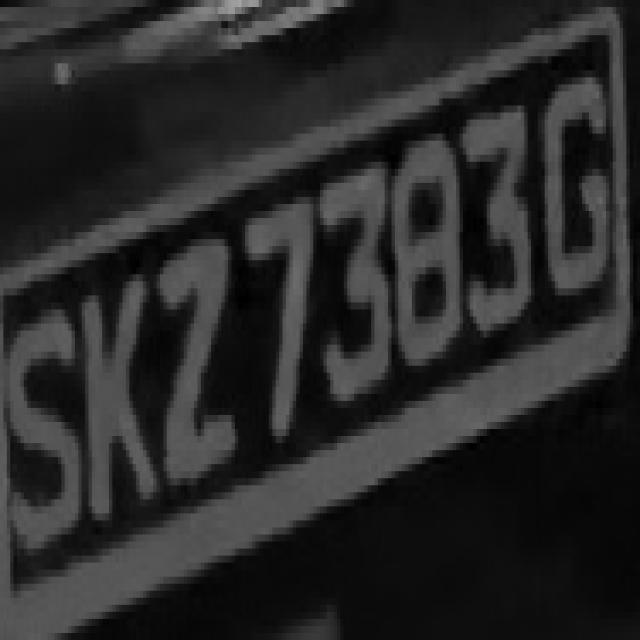3: (303, 162, 391, 422), (456, 91, 538, 352)
7: (228, 204, 310, 464)
8: (381, 141, 477, 394)
G: (531, 78, 620, 310)
K: (72, 267, 153, 535)
S: (0, 295, 89, 570)
Z: (153, 239, 245, 499)
